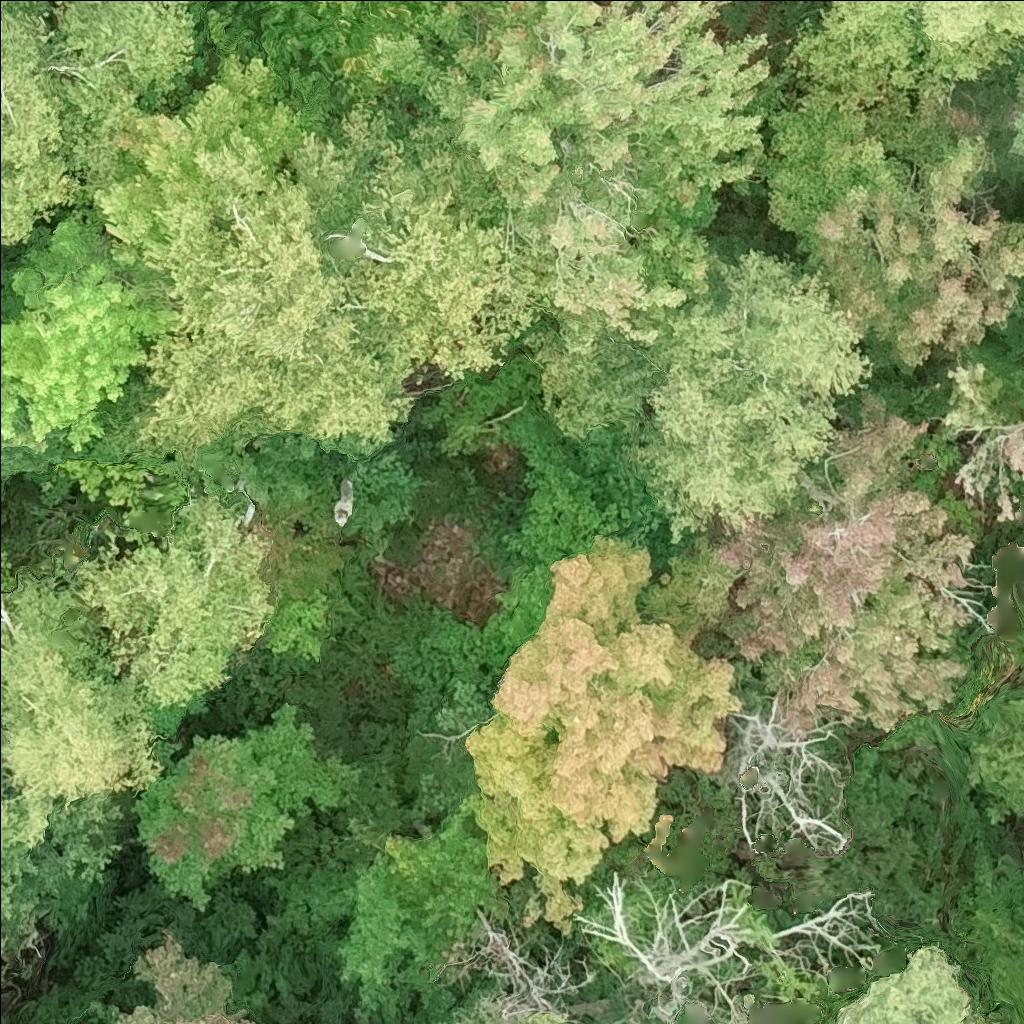crown: (99, 84, 548, 474), (423, 0, 792, 356), (459, 533, 743, 934), (708, 382, 979, 735), (618, 246, 874, 546), (752, 102, 1023, 377), (78, 50, 315, 282), (57, 494, 274, 739), (131, 697, 373, 910), (0, 572, 167, 853), (0, 207, 176, 460), (48, 0, 207, 184), (780, 0, 1023, 116), (0, 0, 80, 246), (926, 351, 1023, 527), (93, 934, 256, 1023), (966, 701, 1023, 844), (0, 846, 46, 963), (981, 59, 1023, 186), (449, 1000, 584, 1023), (1017, 294, 1023, 322), (0, 475, 1, 483), (0, 975, 0, 980)
